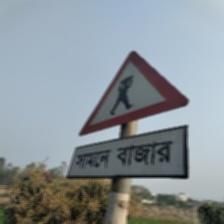Market-in-front: (69, 50, 193, 183)
